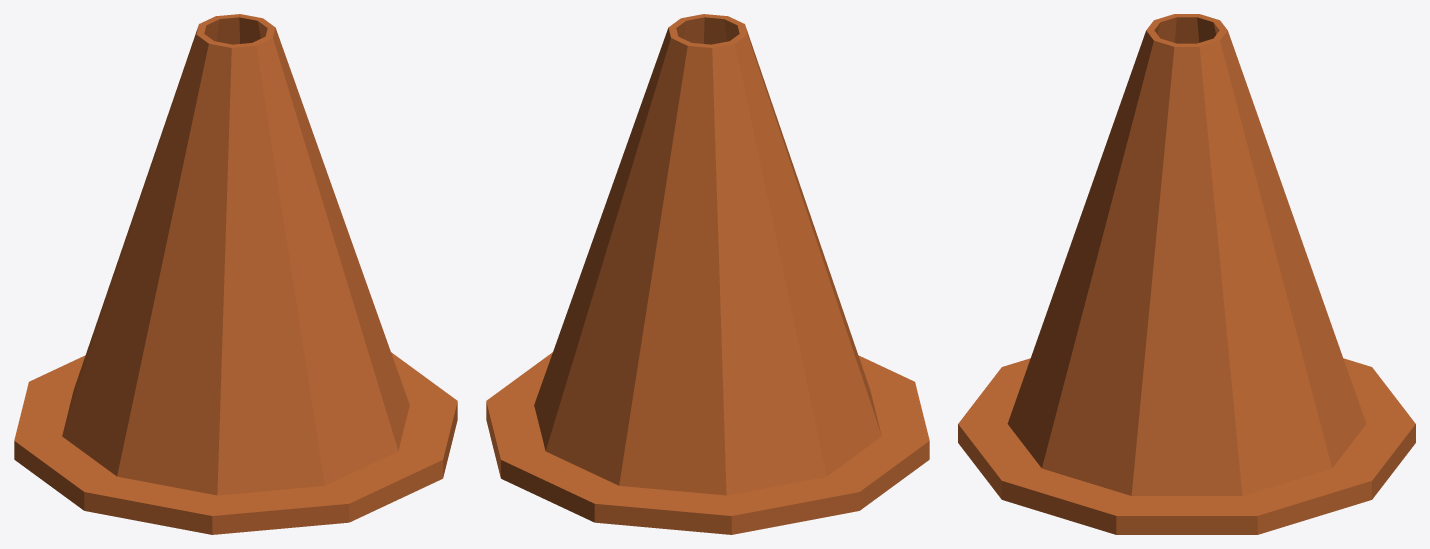
The model's file is trafficCone01_TheanaProd.fbx.
The picture shows the model from 3 angles, left to right: view 1: azimuth 30°, elevation 25°; view 2: azimuth 150°, elevation 25°; view 3: azimuth 270°, elevation 25°; orthographic projection.
Parts seen in each view (by area): view 1: Cone 01; view 2: Cone 01; view 3: Cone 01.
Boxes of the visible parts, x1,y1,x2,y2 form: Cone 01: [14, 14, 457, 534]; Cone 01: [486, 14, 929, 534]; Cone 01: [958, 14, 1415, 534].
Size of the model in its own units: 190 by 199 by 200.
